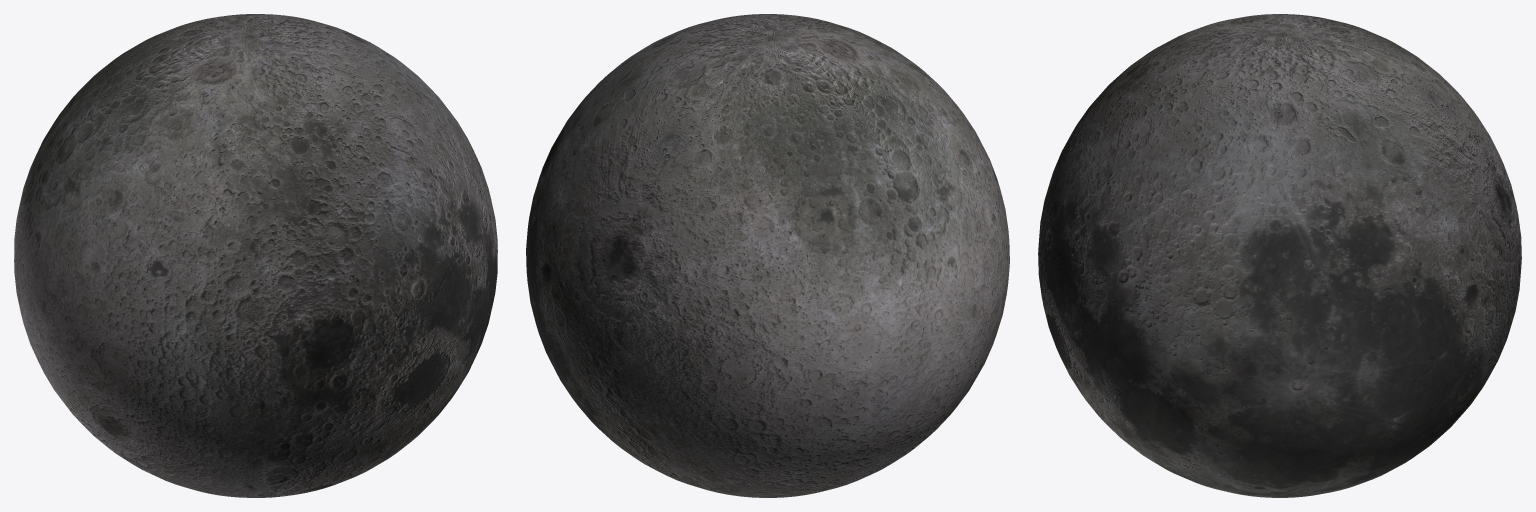
File: victory.glb
3 views of the same model, side by side, from view 1: azimuth 30°, elevation 25°; view 2: azimuth 150°, elevation 25°; view 3: azimuth 270°, elevation 25° (orthographic).
Visible parts, largest first — view 1: Sphere.001; view 2: Sphere.001; view 3: Sphere.001.
Part boxes in pixels (x1=…): Sphere.001: x1=14, y1=14, x2=497, y2=497; Sphere.001: x1=526, y1=14, x2=1009, y2=497; Sphere.001: x1=1038, y1=14, x2=1521, y2=497.
Bounding box in the file's own units: 2 × 2 × 2.
Materials: 1 (1 with a texture image).
